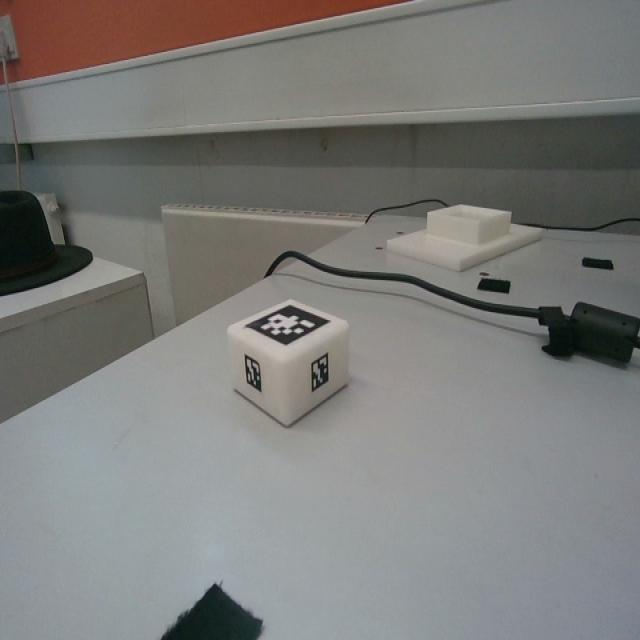Cube: (226, 297, 350, 428)
